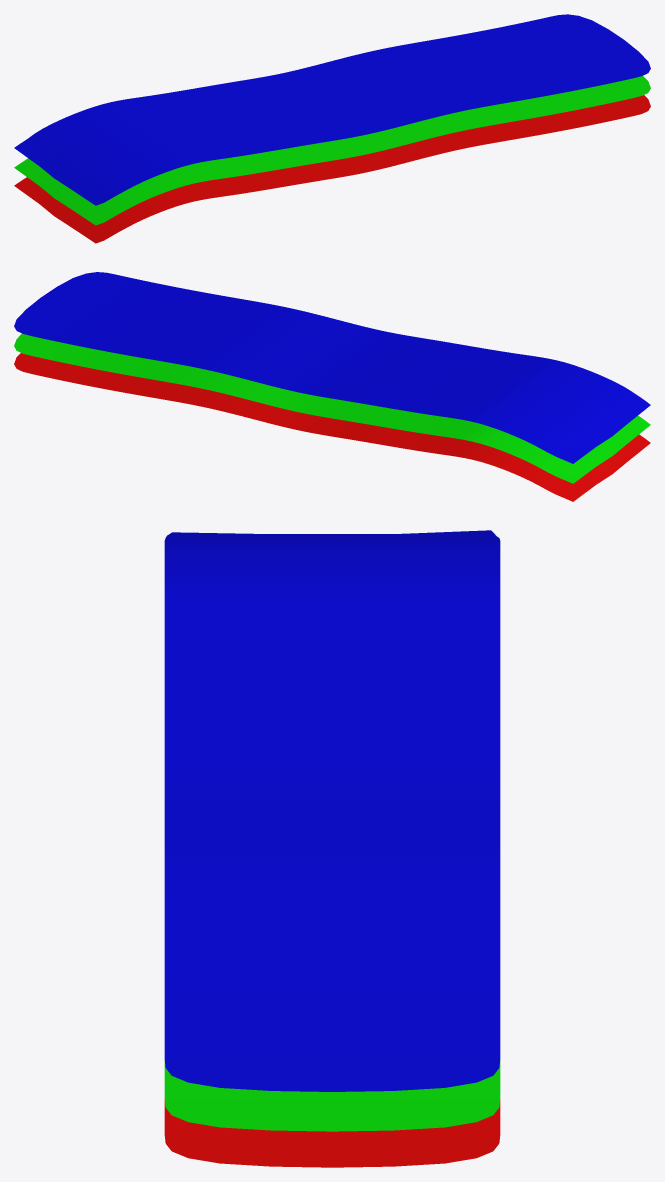
Rendered from AirFlowWind-2025-03-19.fbx.
The picture shows the model from 3 angles, top to bottom: view 1: azimuth 30°, elevation 25°; view 2: azimuth 150°, elevation 25°; view 3: azimuth 270°, elevation 25°; orthographic projection. The views are drawn at different scales.
Parts seen in each view (by area): view 1: airFlow.wind.001; view 2: airFlow.wind.001; view 3: airFlow.wind.001.
Part boxes in pixels (x1,y1,x2,y2): airFlow.wind.001: (14, 14, 650, 243); airFlow.wind.001: (14, 272, 650, 501); airFlow.wind.001: (164, 530, 500, 1167).
Size of the model in its own units: 198 by 19.85 by 50.28.
